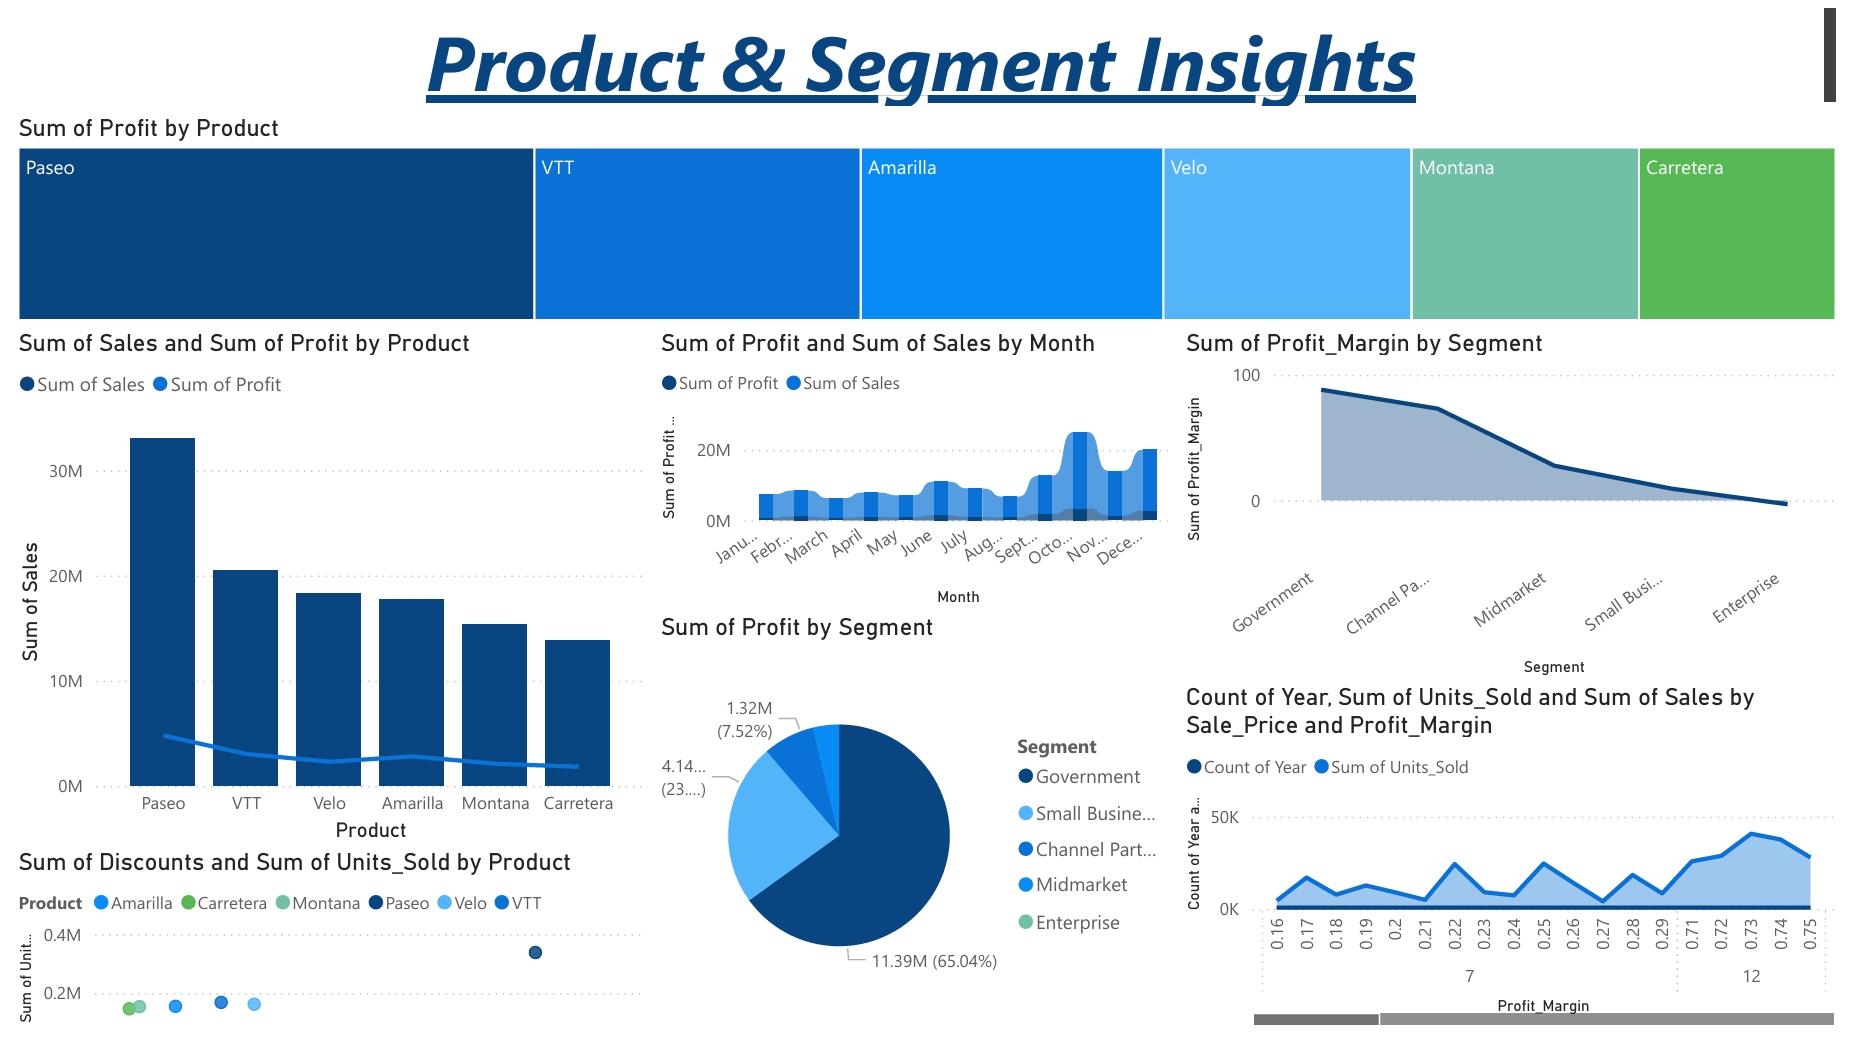

The page's visual inventory and layout, read from the dashboard file:
{"tool":"powerbi","page":{"name":"Page 2","canvas":[1280,720],"ordinal":1},"visuals":[{"type":"textbox","box":[0,0,1279.6,77.8],"z":0},{"type":"treemap","fields":{"Group":["Sheet1.Product"],"Values":["Sum(Sheet1.Profit)"]},"box":[0,77.8,1279.6,150],"z":1000},{"type":"lineStackedColumnComboChart","fields":{"Category":["Sheet1.Product"],"Y":["Sum(Sheet1.Sales)"],"Y2":["Sum(Sheet1.Profit)"]},"box":[0,227.8,448.1,363],"z":1001},{"type":"scatterChart","fields":{"Series":["Sheet1.Product"],"X":["Sum(Sheet1.Discounts)"],"Y":["Sum(Sheet1.Units_Sold)"]},"box":[0,590.7,448.1,129.6],"z":1002},{"type":"areaChart","fields":{"Category":["Sheet1.Segment"],"Y":["Sum(Sheet1.Profit_Margin)"]},"box":[816.5,228.4,463,247.1],"z":1003},{"type":"areaChart","fields":{"Y":["CountNonNull(Sheet1.Year_Month.Variation.Date Hierarchy.Year)","Sum(Sheet1.Units_Sold)"],"Category":["Sheet1.Sale_Price","Sheet1.Profit_Margin"]},"box":[816.5,475.5,463,244],"z":1004},{"type":"ribbonChart","fields":{"Y":["Sum(Sheet1.Profit)","Sum(Sheet1.Sales)"],"Category":["Sheet1.Year_Month.Variation.Date Hierarchy.Month"]},"box":[448.9,228.4,367.6,198.6],"z":1005},{"type":"pieChart","fields":{"Category":["Sheet1.Segment"],"Y":["Sum(Sheet1.Profit)"]},"box":[448.9,427,367.6,292.5],"z":1006}]}

Visuals, with their boxes in screenshot pixels (x1, y1, x2, y2), scaled from the page's 1280x720 canvas onto the 1859x1052 screenshot:
textbox: bbox(0, 0, 1858, 114)
treemap - Sheet1.Product x Sum(Sheet1.Profit): bbox(0, 114, 1858, 333)
lineStackedColumnComboChart - Sheet1.Product x Sum(Sheet1.Sales): bbox(0, 333, 651, 863)
scatterChart - Sheet1.Product x Sum(Sheet1.Discounts): bbox(0, 863, 651, 1051)
areaChart - Sheet1.Segment x Sum(Sheet1.Profit_Margin): bbox(1186, 334, 1858, 695)
areaChart - CountNonNull(Sheet1.Year_Month.Variation.Date Hierarchy.Year) x Sum(Sheet1.Units_Sold): bbox(1186, 695, 1858, 1051)
ribbonChart - Sum(Sheet1.Profit) x Sum(Sheet1.Sales): bbox(652, 334, 1186, 624)
pieChart - Sheet1.Segment x Sum(Sheet1.Profit): bbox(652, 624, 1186, 1051)
